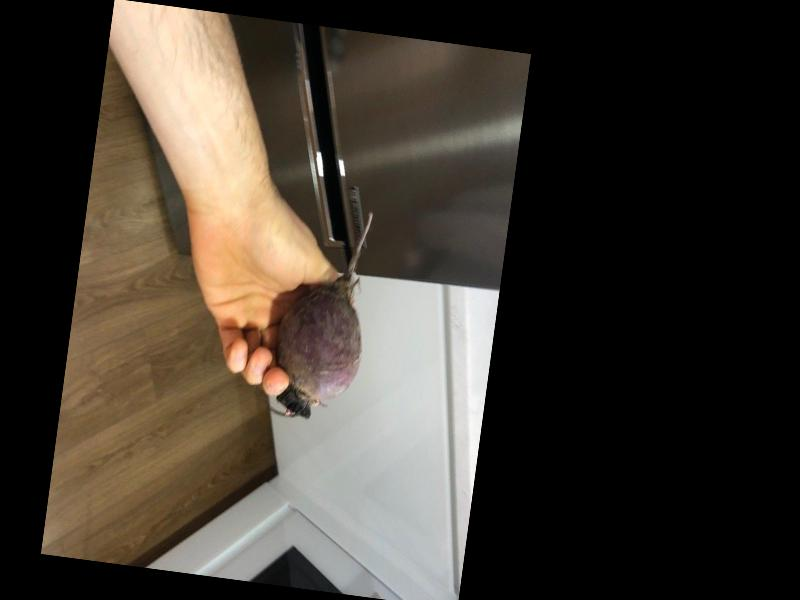Beet: (267, 203, 379, 426)
